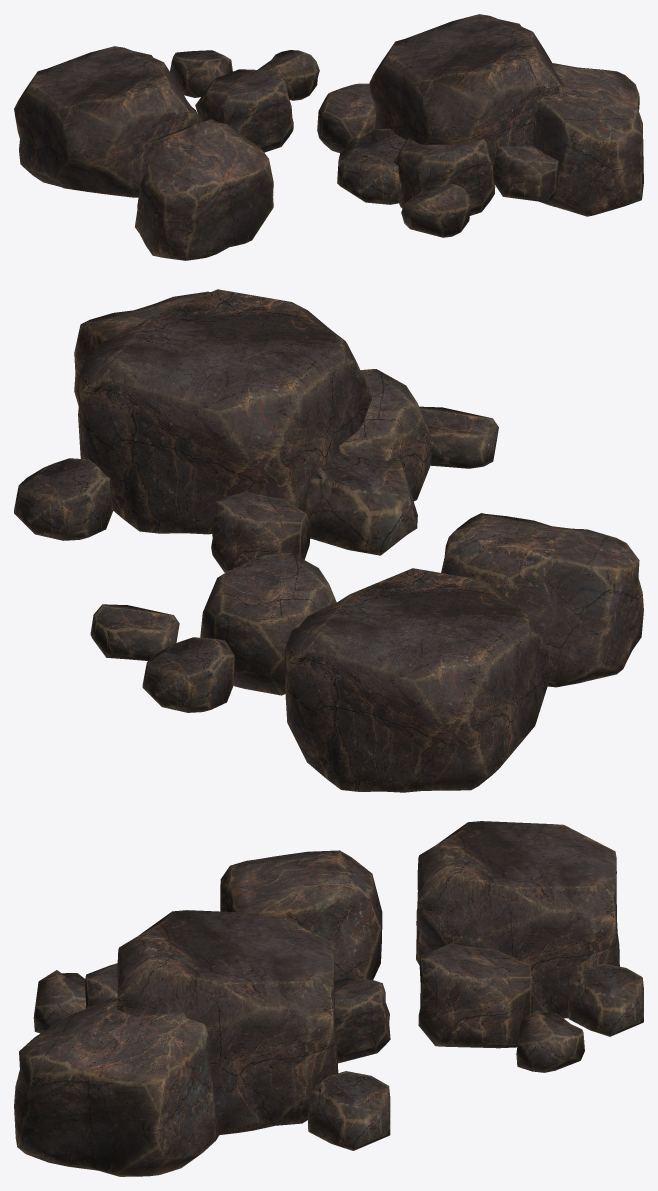
File: smallrocks1.glb
3 views of the same model, one above another, from view 1: azimuth 30°, elevation 25°; view 2: azimuth 150°, elevation 25°; view 3: azimuth 270°, elevation 25° (orthographic). The views are drawn at different scales.
Parts seen in each view (by area): view 1: smallrockscombined, smallrock.003, smallrock.001, smallrock.002, smallrock.004, smallrock.005; view 2: smallrockscombined, smallrock.003, smallrock.001, smallrock.002, smallrock.004, smallrock.005; view 3: smallrockscombined, smallrock.003, smallrock.001, smallrock.002, smallrock.004, smallrock.005.
Boxes of the visible parts, bbox=[...] form: smallrockscombined: bbox=[317, 14, 643, 237]; smallrock.003: bbox=[14, 46, 200, 197]; smallrock.001: bbox=[135, 119, 273, 260]; smallrock.002: bbox=[195, 69, 293, 152]; smallrock.004: bbox=[170, 50, 232, 97]; smallrock.005: bbox=[257, 50, 319, 100]; smallrockscombined: bbox=[14, 289, 498, 572]; smallrock.003: bbox=[284, 568, 553, 792]; smallrock.001: bbox=[441, 513, 643, 687]; smallrock.002: bbox=[200, 552, 336, 695]; smallrock.004: bbox=[142, 637, 234, 712]; smallrock.005: bbox=[90, 604, 179, 660]; smallrockscombined: bbox=[14, 910, 390, 1176]; smallrock.003: bbox=[416, 821, 619, 1018]; smallrock.001: bbox=[220, 850, 382, 980]; smallrock.002: bbox=[418, 943, 532, 1048]; smallrock.004: bbox=[568, 963, 643, 1036]; smallrock.005: bbox=[516, 1010, 584, 1072].
Bounding box in the file's own units: 4.05 × 1.48 × 3.78.
Materials: 1 (1 with a texture image).
